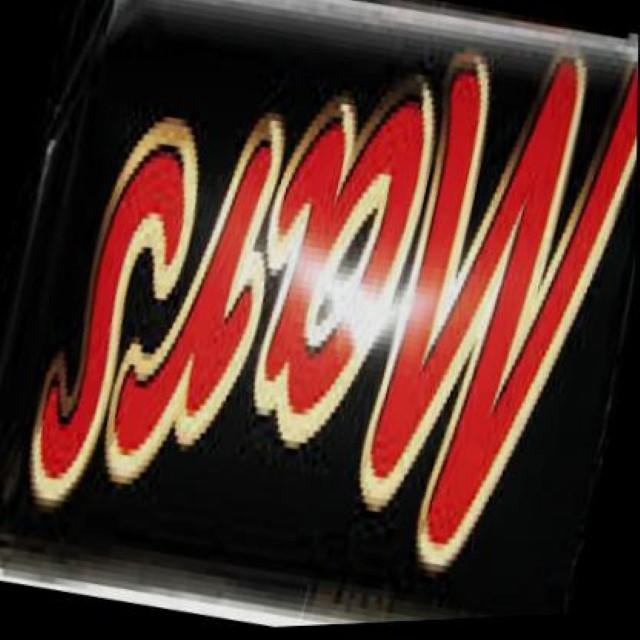mars_chocolate: (62, 40, 630, 565)
